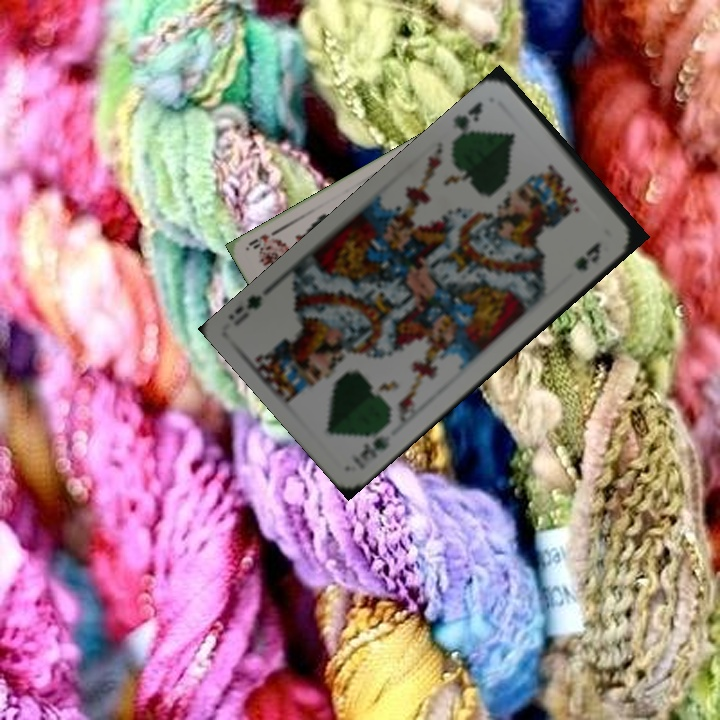GK: (448, 97, 485, 138), (355, 431, 393, 464)
